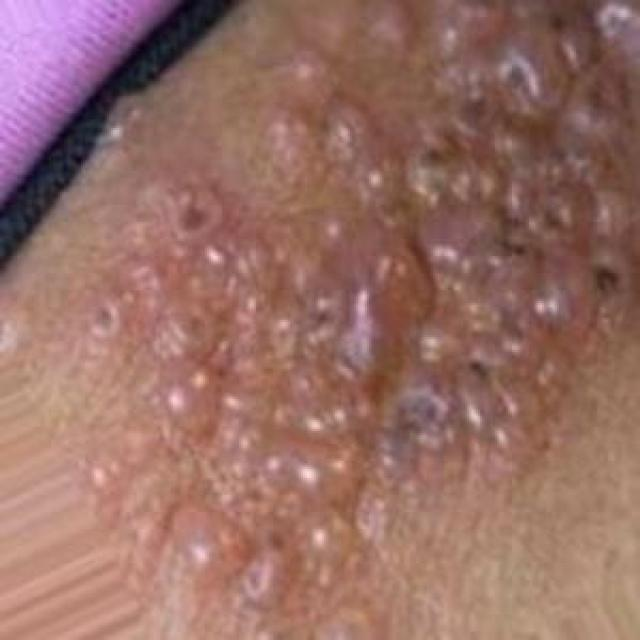Shingles: (78, 0, 636, 620)
